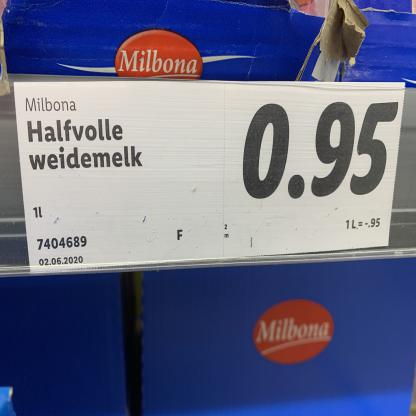prtg: (14, 83, 407, 276)
